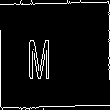M_N: (43, 29, 67, 81)
